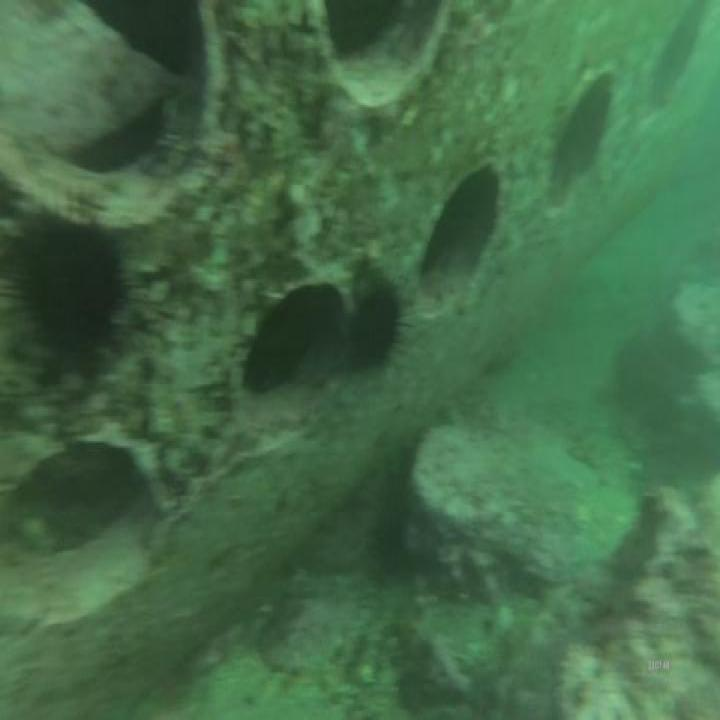echinus: (18, 212, 127, 386), (342, 270, 401, 384)
